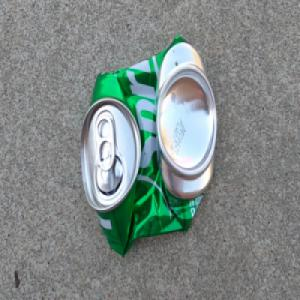SodaCan: (78, 33, 218, 258)
